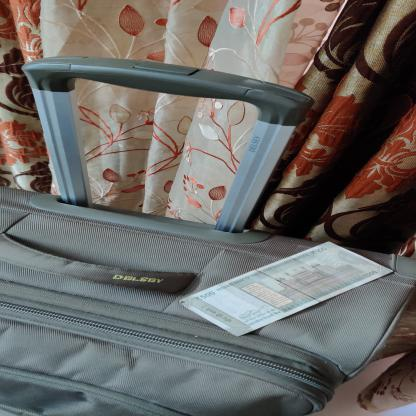New500Back: (180, 242, 394, 336)
